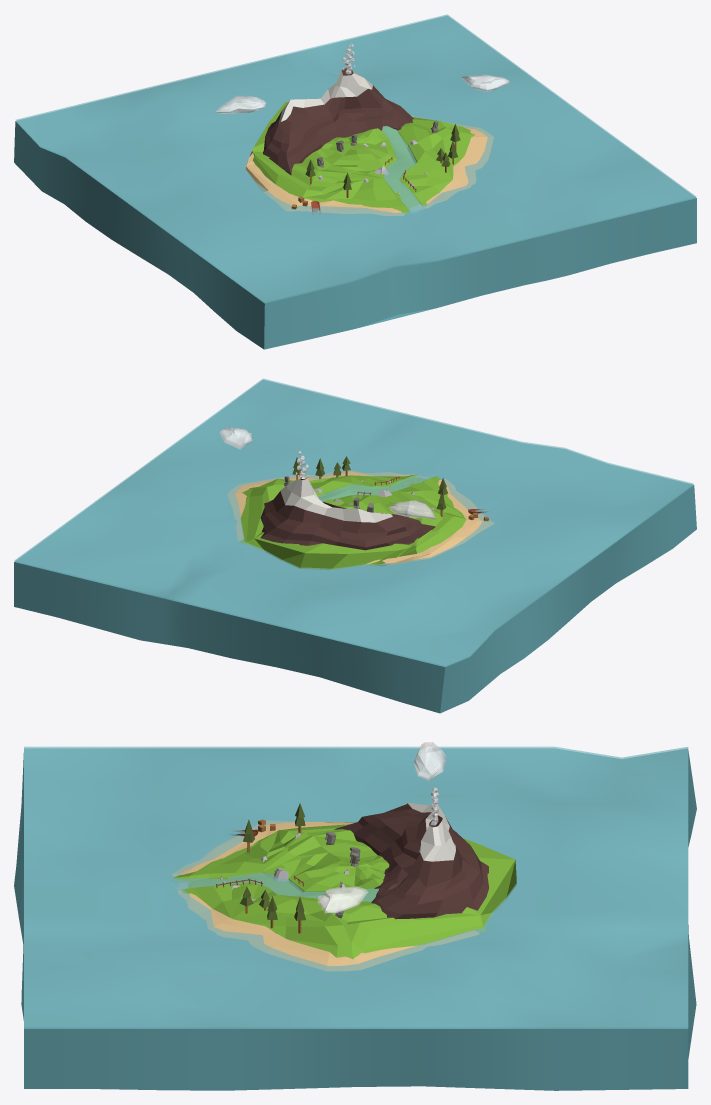
Rendered from escena.glb.
The picture shows the model from 3 angles, top to bottom: view 1: azimuth 30°, elevation 25°; view 2: azimuth 150°, elevation 25°; view 3: azimuth 270°, elevation 25°; orthographic projection. The views are drawn at different scales.
Parts seen in each view (by area): view 1: Mar_e_moto1, Mar_e_moto, pCylinder1, Montanha, pCylinder2, Agua, pCube13, pCube14, pCube42; view 2: Mar_e_moto1, Mar_e_moto, pCylinder1, Montanha, pCylinder2, Agua, pCube13, pCube14, pCube42; view 3: Mar_e_moto1, Mar_e_moto, pCylinder1, Montanha, pCylinder2, Agua, pCube14, pCube13, pCube43, pCube42.
Boxes of the visible parts, x1=… form: Mar_e_moto1: x1=14, y1=16, x2=696, y2=349; Mar_e_moto: x1=16, y1=14, x2=696, y2=302; pCylinder1: x1=252, y1=101, x2=474, y2=212; Montanha: x1=263, y1=68, x2=413, y2=175; pCylinder2: x1=246, y1=115, x2=493, y2=215; Agua: x1=382, y1=126, x2=424, y2=213; pCube13: x1=215, y1=95, x2=265, y2=113; pCube14: x1=461, y1=74, x2=509, y2=91; pCube42: x1=218, y1=97, x2=264, y2=112; Mar_e_moto1: x1=14, y1=380, x2=696, y2=713; Mar_e_moto: x1=14, y1=378, x2=693, y2=665; pCylinder1: x1=240, y1=474, x2=466, y2=569; Montanha: x1=260, y1=478, x2=435, y2=550; pCylinder2: x1=227, y1=471, x2=494, y2=565; Agua: x1=318, y1=473, x2=437, y2=501; pCube13: x1=389, y1=500, x2=436, y2=519; pCube14: x1=219, y1=427, x2=252, y2=449; pCube42: x1=391, y1=501, x2=434, y2=517; Mar_e_moto1: x1=14, y1=748, x2=696, y2=1090; Mar_e_moto: x1=24, y1=746, x2=688, y2=1027; pCylinder1: x1=173, y1=824, x2=516, y2=959; Montanha: x1=334, y1=802, x2=488, y2=919; pCylinder2: x1=172, y1=820, x2=478, y2=970; Agua: x1=167, y1=872, x2=378, y2=901; pCube14: x1=317, y1=886, x2=367, y2=914; pCube13: x1=414, y1=742, x2=446, y2=780; pCube43: x1=319, y1=888, x2=364, y2=912; pCube42: x1=414, y1=744, x2=443, y2=779.
Bounding box in the file's own units: 191 × 58.27 × 193.
